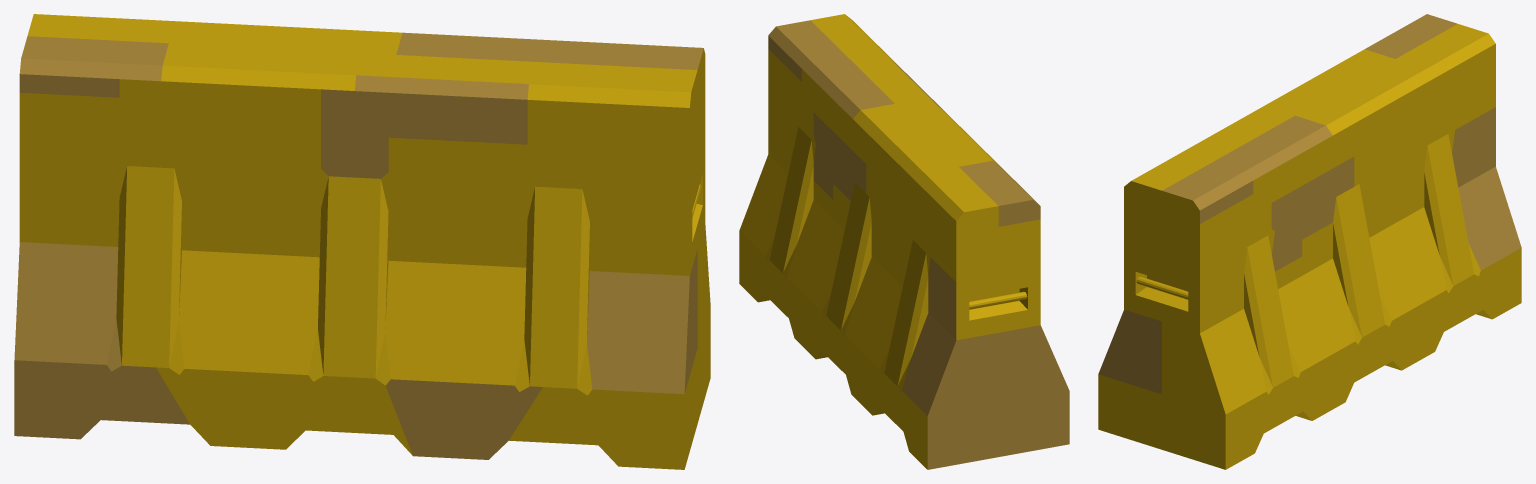
Rendered from plasticbarrier.001_lev1.glb.
The picture shows the model from 3 angles, left to right: view 1: azimuth 30°, elevation 25°; view 2: azimuth 150°, elevation 25°; view 3: azimuth 270°, elevation 25°; orthographic projection. The views are drawn at different scales.
Parts seen in each view (by area): view 1: plasticbarrier.001_lev1; view 2: plasticbarrier.001_lev1; view 3: plasticbarrier.001_lev1.
Boxes of the visible parts, x1,y1,x2,y2 form: plasticbarrier.001_lev1: (14,14,710,469); plasticbarrier.001_lev1: (739,14,1069,469); plasticbarrier.001_lev1: (1098,14,1521,469).
Size of the model in its own units: 1.96 by 1.14 by 1.69.
1 material, 1 textured.
